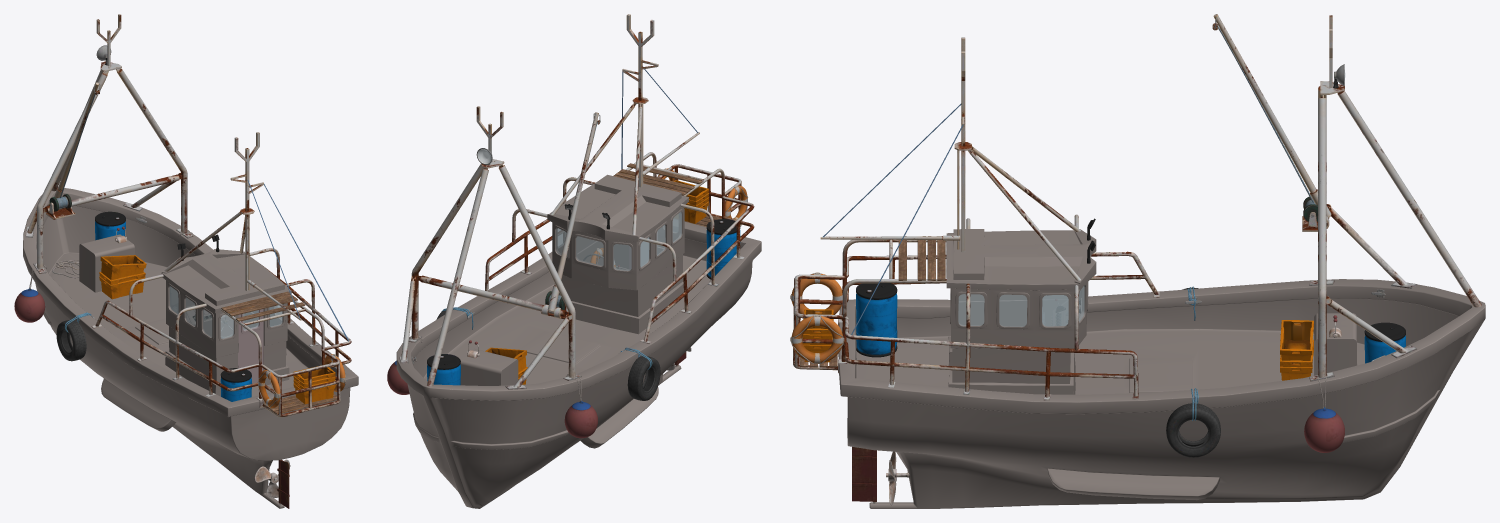
File: boat.glb
The picture shows the model from 3 angles, left to right: view 1: azimuth 30°, elevation 25°; view 2: azimuth 150°, elevation 25°; view 3: azimuth 270°, elevation 25°; orthographic projection. The views are drawn at different scales.
Visible parts, largest first — view 1: Vert.002; view 2: Vert.002; view 3: Vert.002.
Boxes of the visible parts, box(x1,y1,x2,y2) form: Vert.002: box(14, 14, 358, 508); Vert.002: box(387, 14, 761, 508); Vert.002: box(790, 14, 1485, 508).
Bounding box in the file's own units: 6.7 × 12.15 × 15.8.
3 materials, 2 textured.
